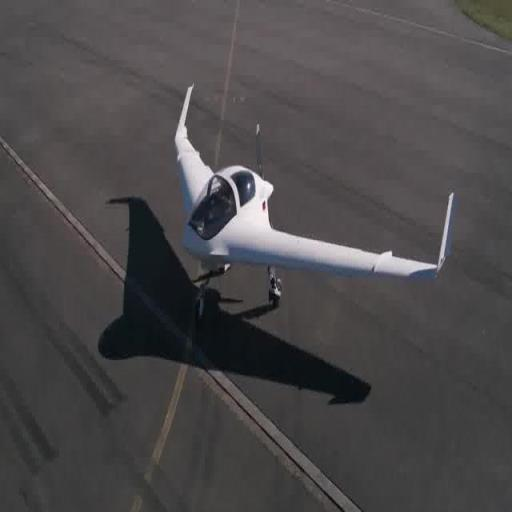uav: (171, 72, 459, 402)
